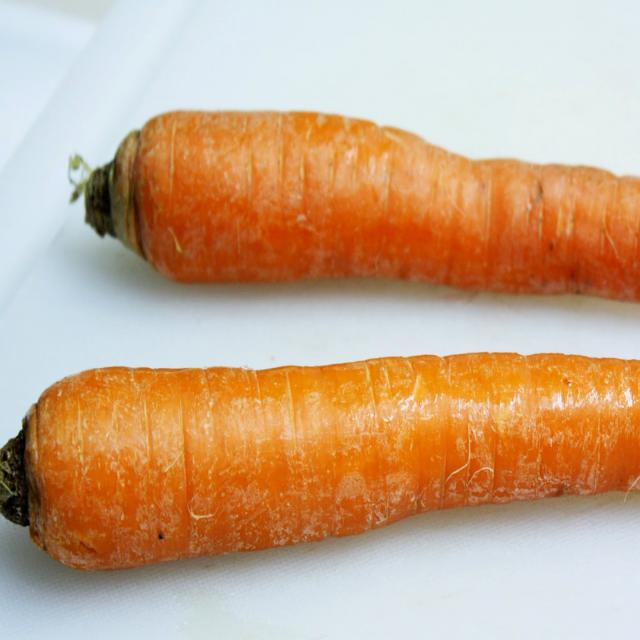Carrot: (0, 354, 640, 574), (69, 111, 640, 302)
